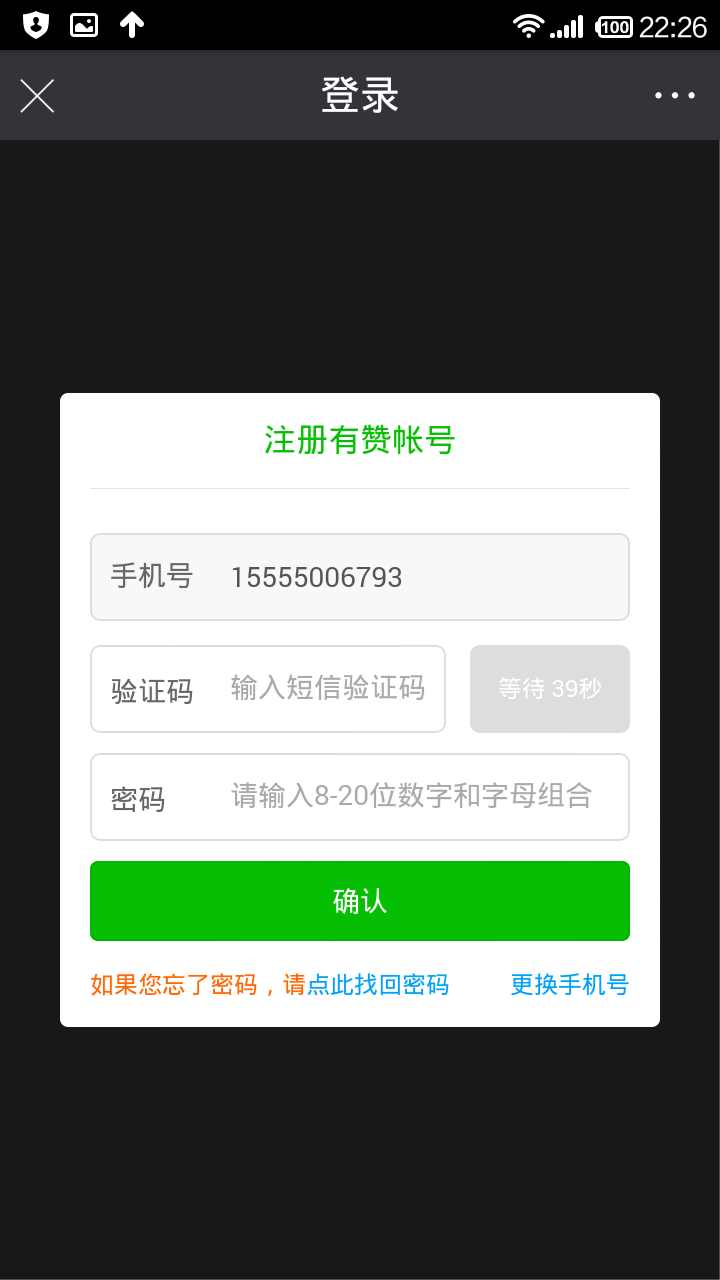button: (81, 849, 635, 953), (461, 642, 644, 741)
textview: (78, 635, 447, 744)
